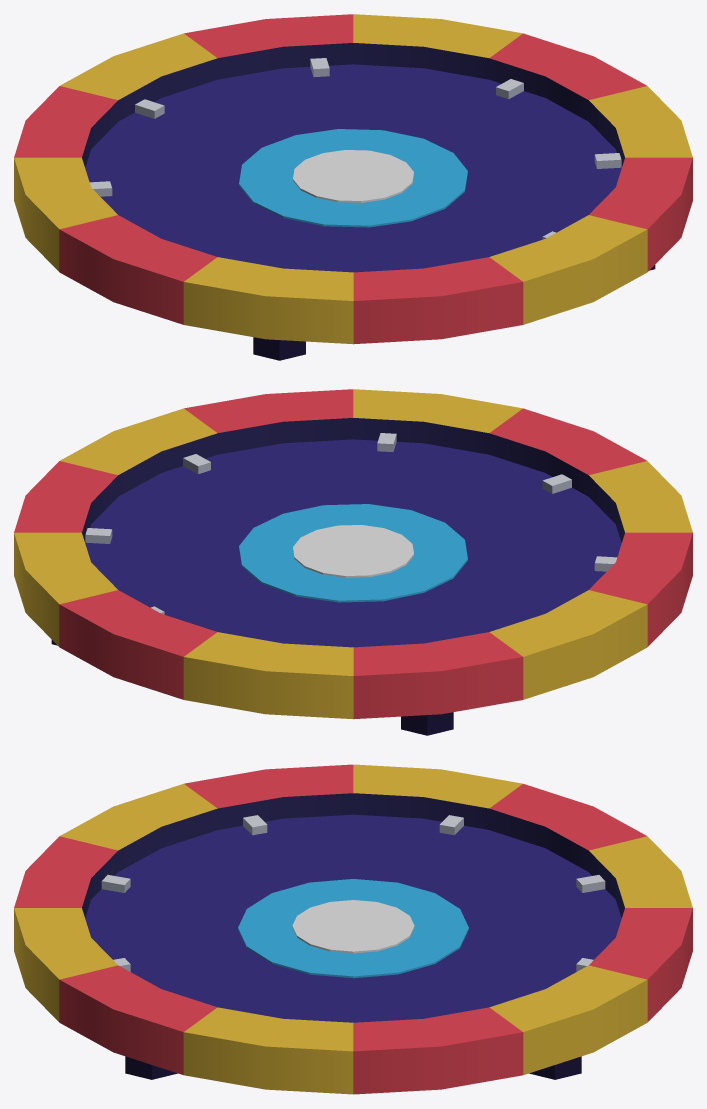
The model's file is jump.glb.
3 views of the same model, one above another, from view 1: azimuth 30°, elevation 25°; view 2: azimuth 150°, elevation 25°; view 3: azimuth 270°, elevation 25° (orthographic).
Parts seen in each view (by area): view 1: Body; view 2: Body; view 3: Body.
Boxes of the visible parts, x1,y1,x2,y2 form: Body: [14, 14, 692, 360]; Body: [14, 389, 692, 735]; Body: [14, 764, 692, 1094].
Bounding box in the file's own units: 1 × 0.12 × 1.
